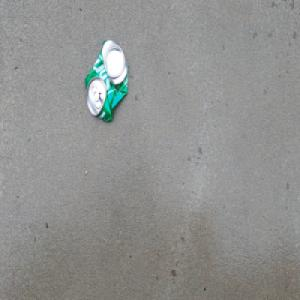SodaCan: (83, 37, 130, 124)
